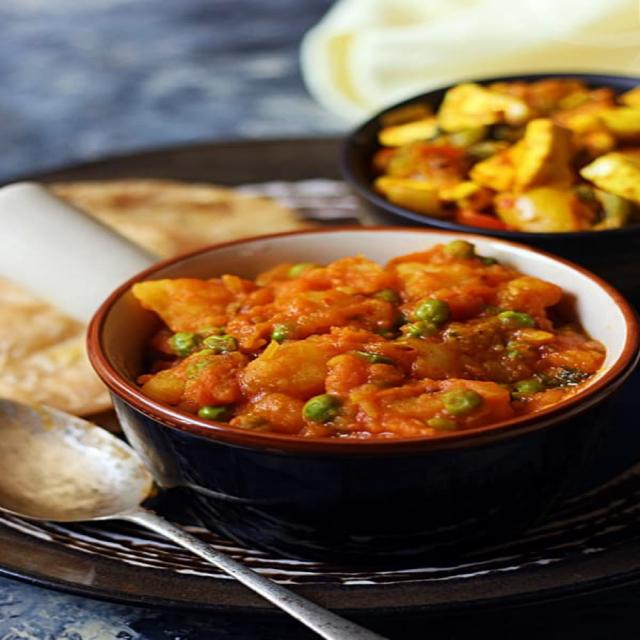Aloo Matar: (122, 241, 570, 441)
